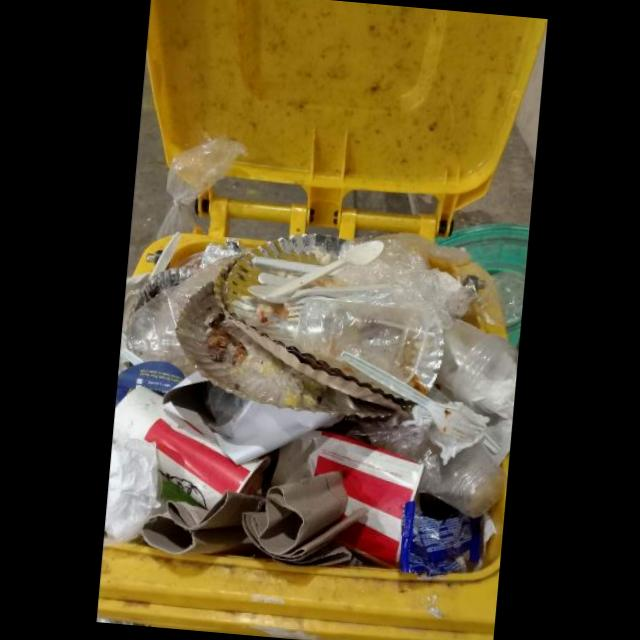bao_bi_thuc_pham: (399, 501, 484, 577)
carton: (141, 471, 369, 566), (270, 431, 424, 569), (113, 386, 270, 510)
giay: (103, 438, 160, 544)
tui_ni_long: (310, 232, 478, 326)
